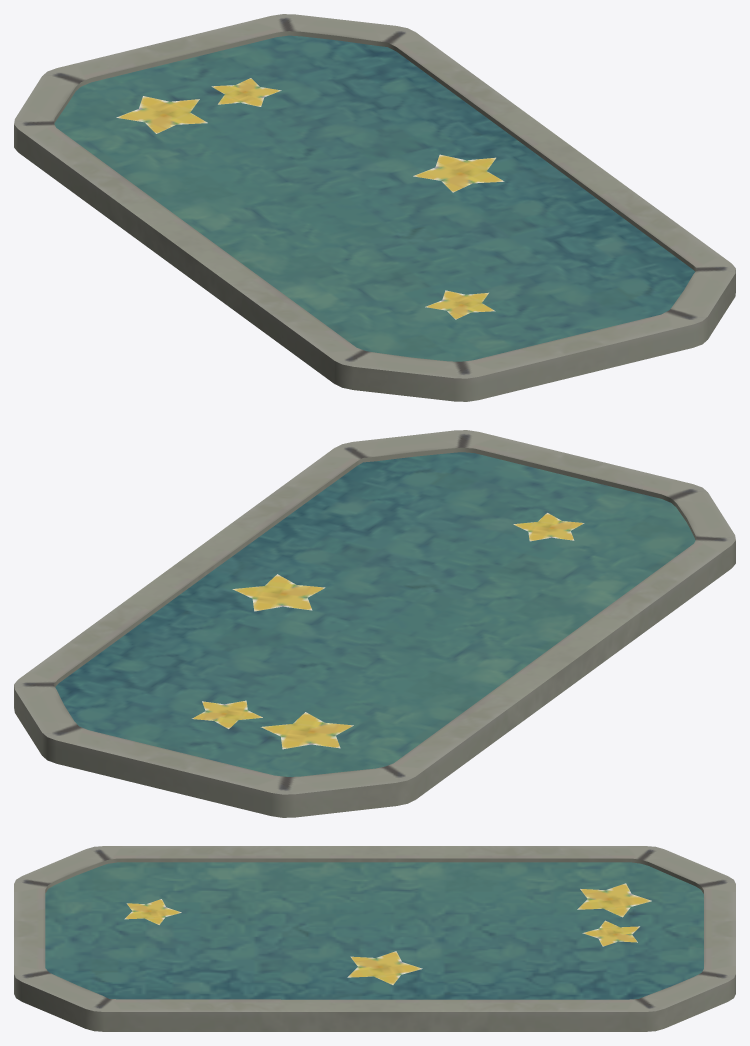
File: pref_sm_city_parterre09c_snow_lv3.fbx
3 views of the same model, one above another, from view 1: azimuth 30°, elevation 25°; view 2: azimuth 150°, elevation 25°; view 3: azimuth 270°, elevation 25° (orthographic). The views are drawn at different scales.
Parts seen in each view (by area): view 1: pref_sm_city_parterre09c_snow_lv3; view 2: pref_sm_city_parterre09c_snow_lv3; view 3: pref_sm_city_parterre09c_snow_lv3.
Boxes of the visible parts, bbox=[...] form: pref_sm_city_parterre09c_snow_lv3: bbox=[14, 14, 735, 401]; pref_sm_city_parterre09c_snow_lv3: bbox=[14, 430, 735, 817]; pref_sm_city_parterre09c_snow_lv3: bbox=[14, 846, 735, 1031].
Size of the model in its own units: 2.33 by 0.1305 by 4.29.
